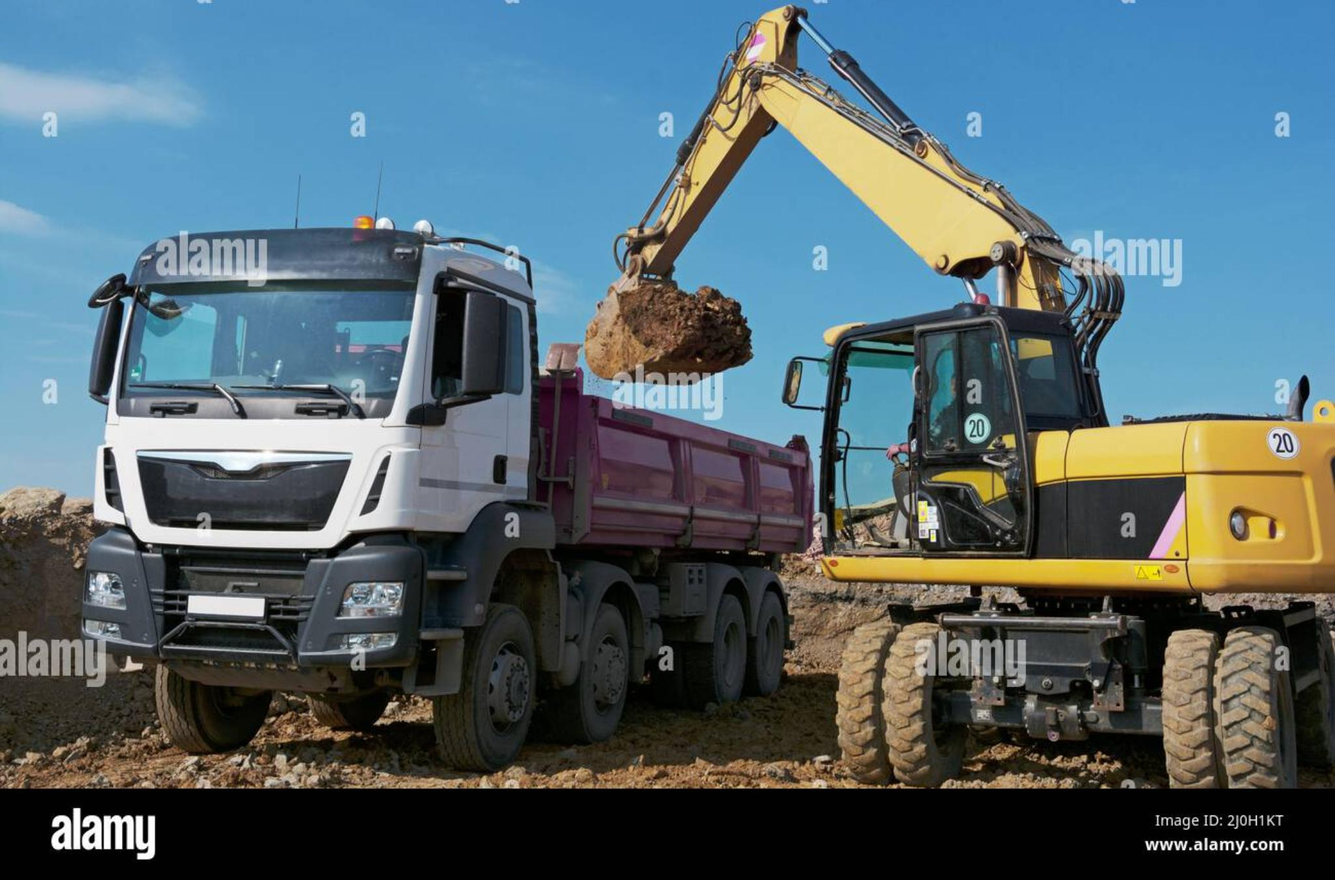excavator: (692, 21, 1325, 783)
truck: (60, 183, 799, 766)
